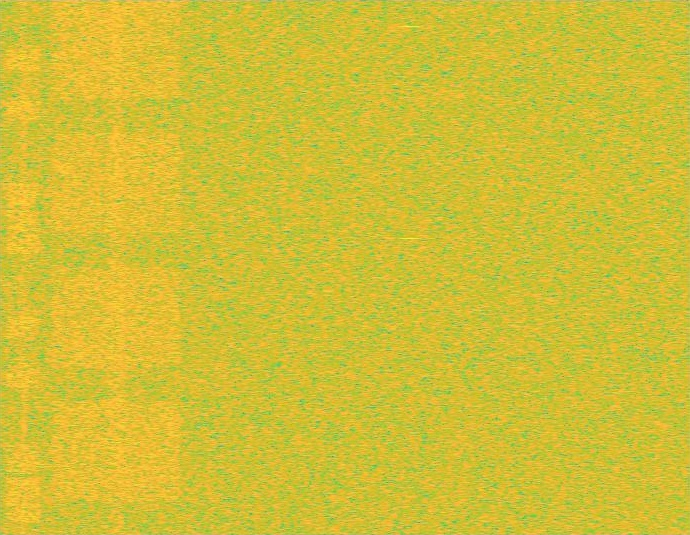5G: (47, 0, 185, 534)
DSSS: (107, 0, 126, 534), (20, 0, 27, 534)
LTE: (6, 0, 41, 534)
Radar: (404, 0, 418, 534)
